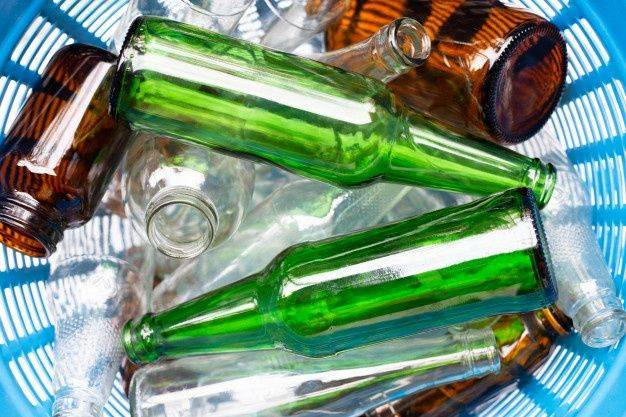glass: (113, 8, 573, 218), (320, 0, 594, 155), (113, 317, 523, 417), (2, 46, 142, 264), (99, 8, 430, 83), (46, 196, 153, 417), (514, 157, 626, 353), (117, 123, 261, 256)
